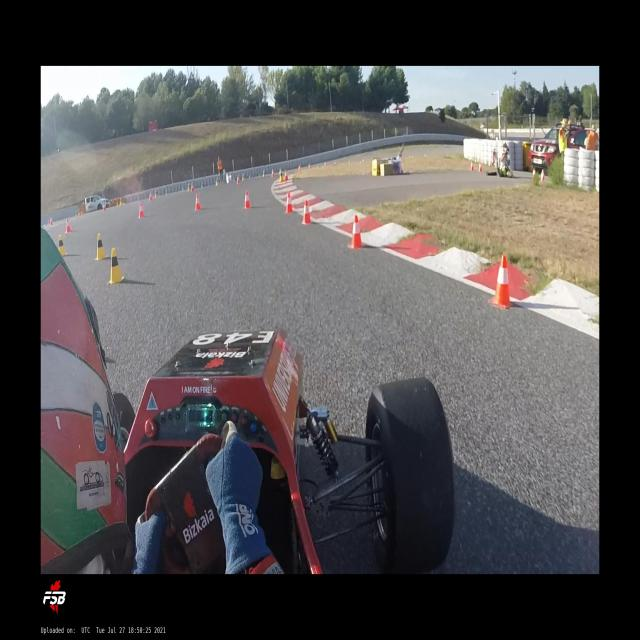orange_cone: (489, 255, 514, 309), (348, 215, 364, 249), (301, 200, 312, 225), (285, 191, 294, 214), (244, 190, 251, 209), (64, 218, 72, 234), (138, 202, 146, 218), (195, 194, 202, 210), (540, 170, 546, 182), (49, 216, 54, 226), (284, 170, 288, 181), (470, 161, 474, 171), (478, 162, 482, 172), (149, 192, 153, 201), (533, 167, 536, 178), (191, 184, 195, 192), (271, 169, 274, 177), (298, 164, 301, 172), (237, 177, 240, 184), (308, 163, 310, 170), (104, 205, 105, 211)
yellow_cone: (108, 248, 126, 284), (94, 233, 109, 261), (58, 233, 67, 256), (278, 171, 283, 182), (191, 184, 195, 192), (120, 198, 124, 205), (262, 170, 265, 177), (78, 207, 80, 217), (155, 190, 157, 199), (188, 184, 190, 192), (216, 178, 218, 186), (242, 175, 244, 182), (166, 190, 168, 194)
